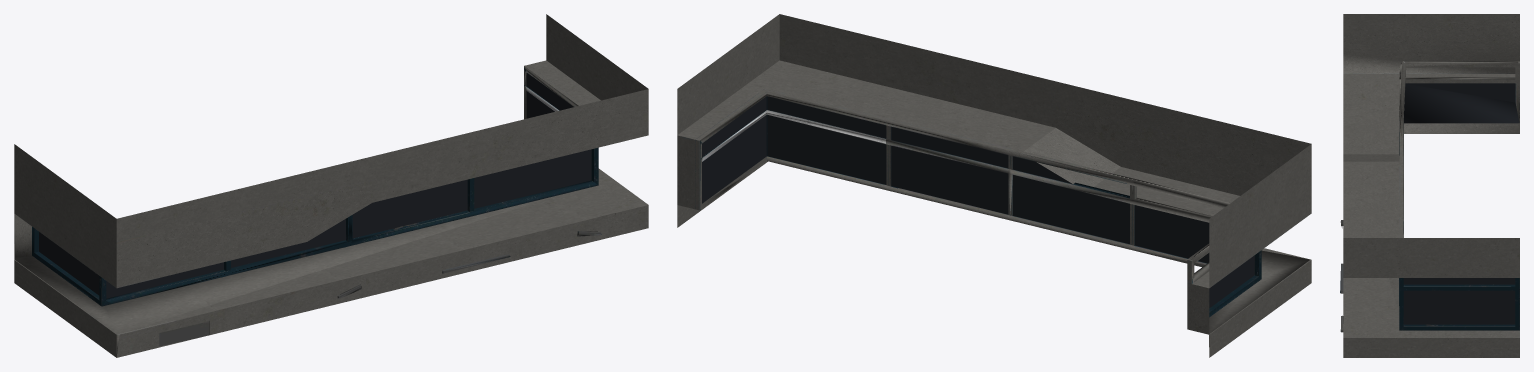
File: sm_cb01_module02.glb
3 views of the same model, side by side, from view 1: azimuth 30°, elevation 25°; view 2: azimuth 150°, elevation 25°; view 3: azimuth 270°, elevation 25° (orthographic). The views are drawn at different scales.
Visible parts, largest first — view 1: sm_cb01_module02_00; view 2: sm_cb01_module02_00; view 3: sm_cb01_module02_00.
Boxes of the visible parts, x1=… form: sm_cb01_module02_00: x1=14, y1=14, x2=648, y2=357; sm_cb01_module02_00: x1=677, y1=14, x2=1311, y2=357; sm_cb01_module02_00: x1=1340, y1=14, x2=1519, y2=357.
Bounding box in the file's own units: 12 × 3 × 4.07.
2 materials, 1 textured.
